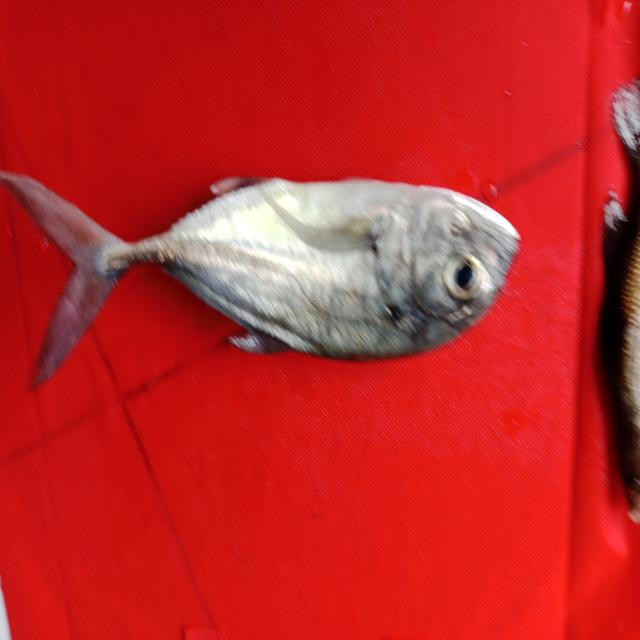ikan: (11, 141, 529, 403), (602, 72, 635, 509)
